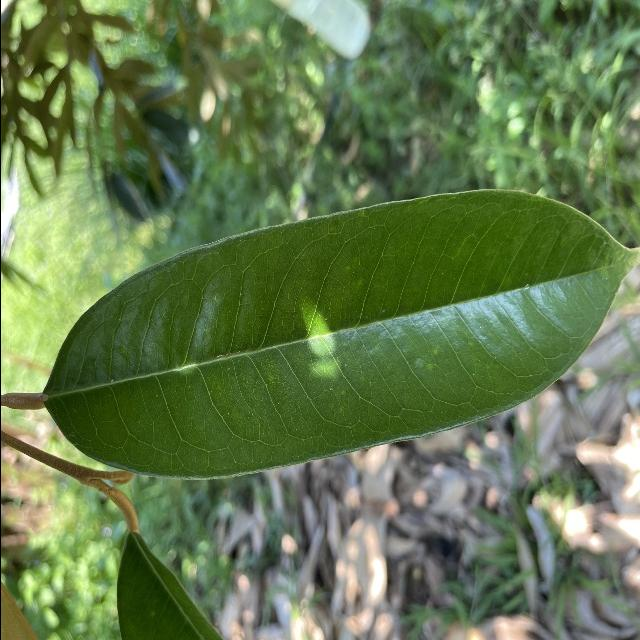No Disease: (37, 181, 627, 489)
